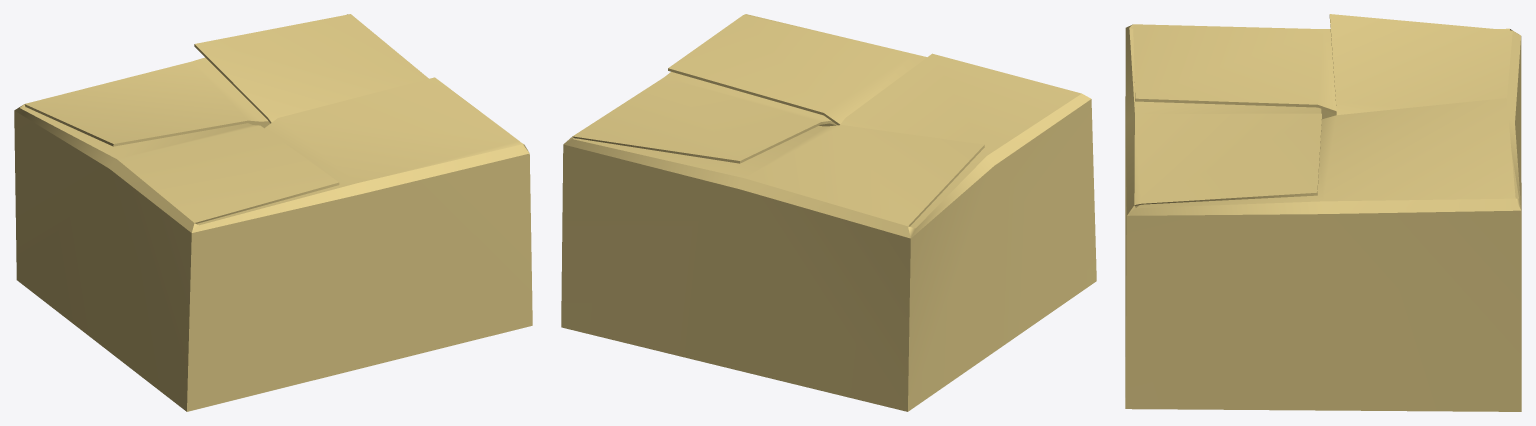
3 views of the same model, side by side, from view 1: azimuth 30°, elevation 25°; view 2: azimuth 150°, elevation 25°; view 3: azimuth 270°, elevation 25° (orthographic). The views are drawn at different scales.
Parts seen in each view (by area): view 1: cardboard_box_a; view 2: cardboard_box_a; view 3: cardboard_box_a.
Part boxes in pixels (bbox=[...]): cardboard_box_a: bbox=[14, 14, 532, 411]; cardboard_box_a: bbox=[561, 14, 1096, 411]; cardboard_box_a: bbox=[1125, 14, 1521, 411].
Size of the model in its own units: 63.49 by 34.82 by 56.26.
